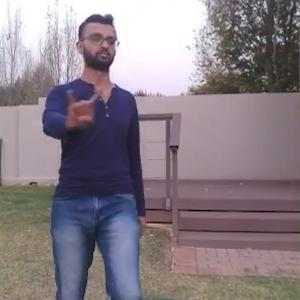takeoff-hand: (60, 79, 103, 133)
